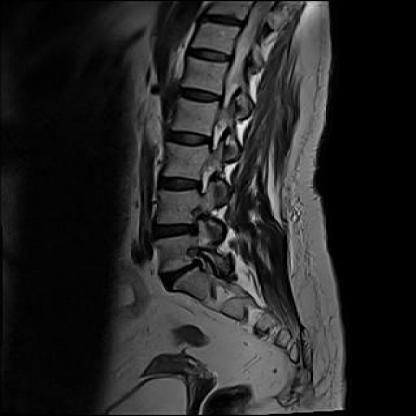Disc Bulgerotation: (150, 222, 202, 242), (159, 263, 205, 282)
